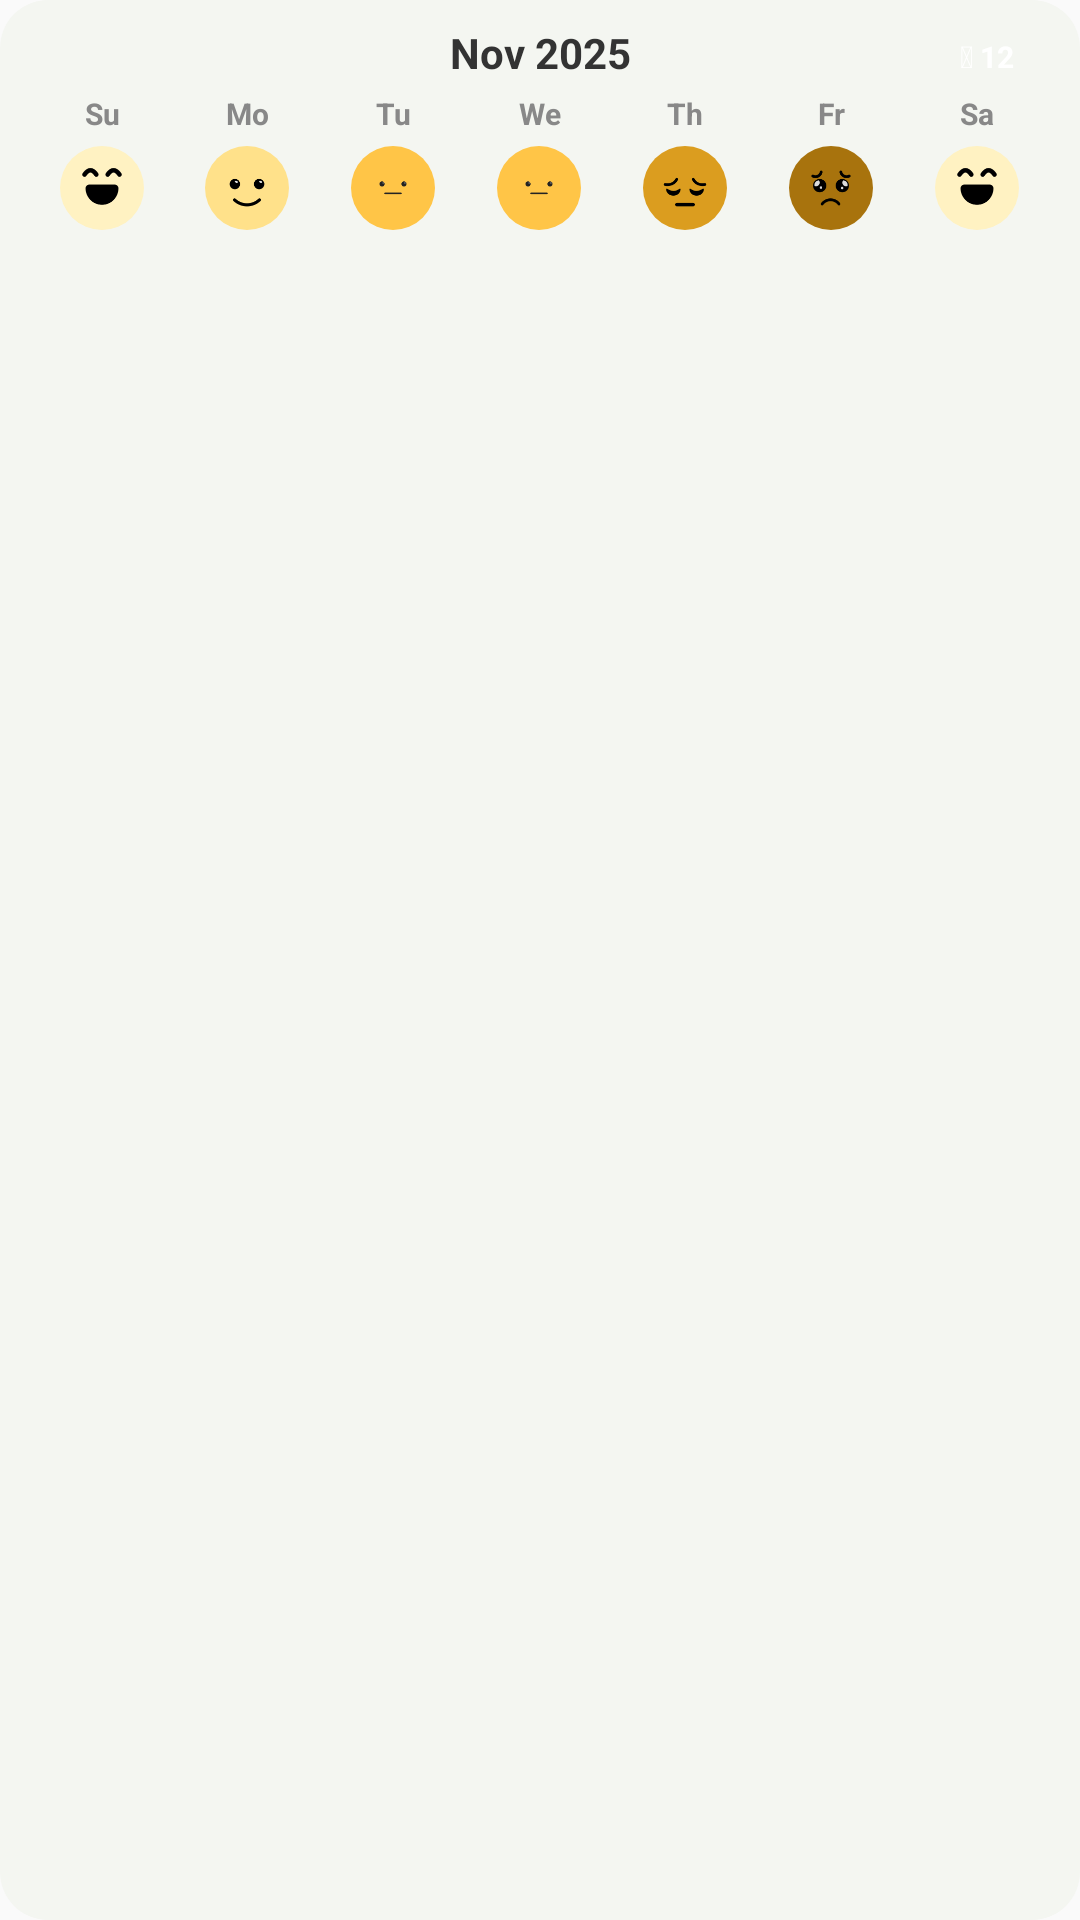

Icons on this 1080px×1920px Android screen, each with the point to tap as point (x, y):
happy: point (247, 188)
neutral: point (393, 188), point (539, 188)
sad: point (685, 188)
very happy: point (102, 188), point (977, 188)
very sad: point (831, 188)
